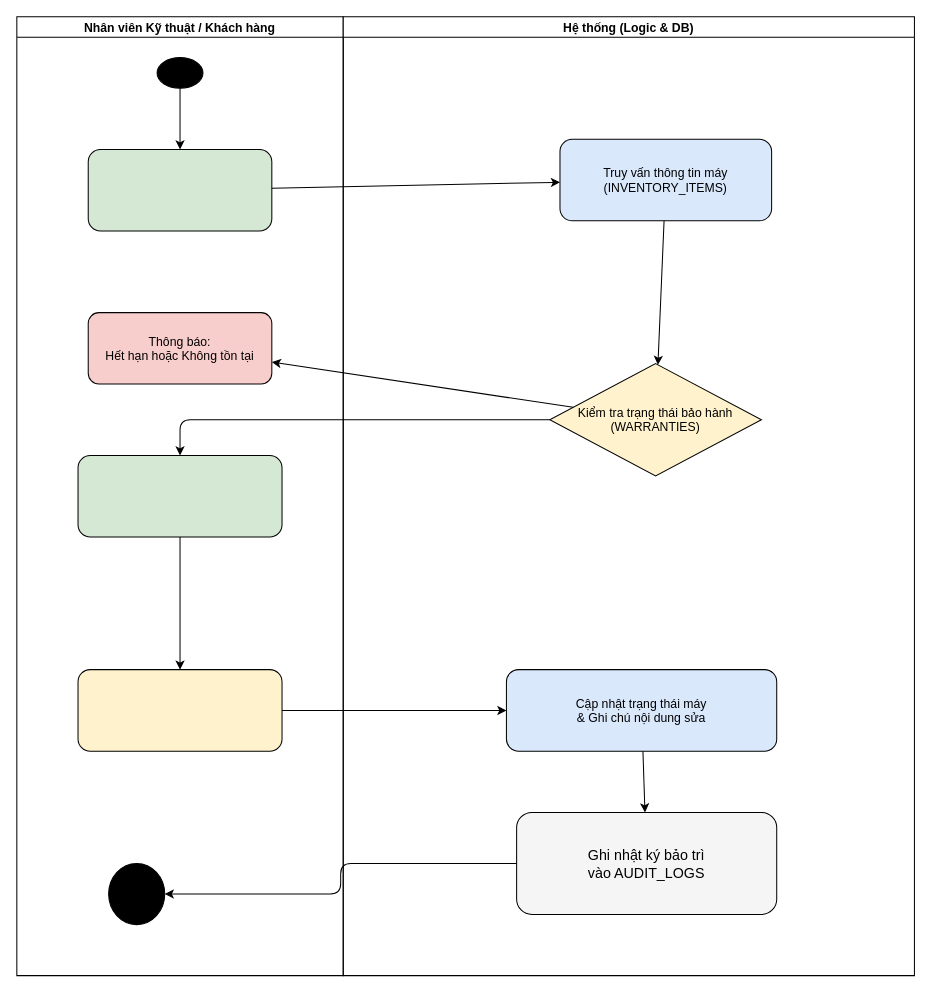
Image size: 931x992. Some labels were removed from this diagram. Each missing label, with the centre of its shape:
Hiển thị: Ngày mua, Hạn BH & Thông tin chủ sở hữu: (x=179, y=495)
Khách yêu cầu sửa chữa: (x=179, y=710)
Quét / Nhập mã Serial/IMEI: (x=179, y=189)
